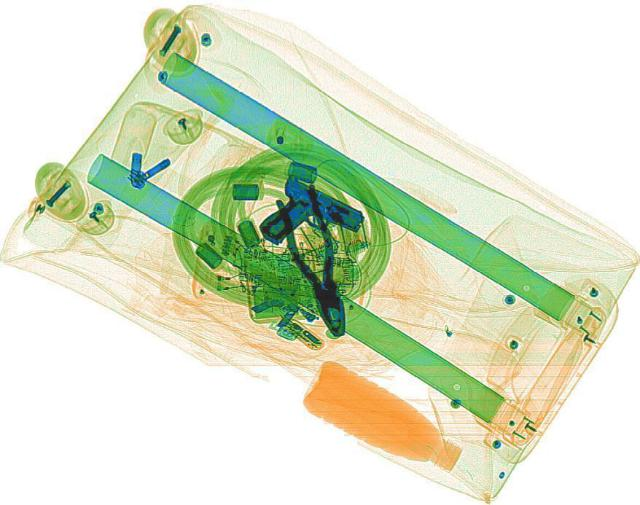Gun: (238, 171, 374, 266)
Pliers: (268, 181, 362, 338)
